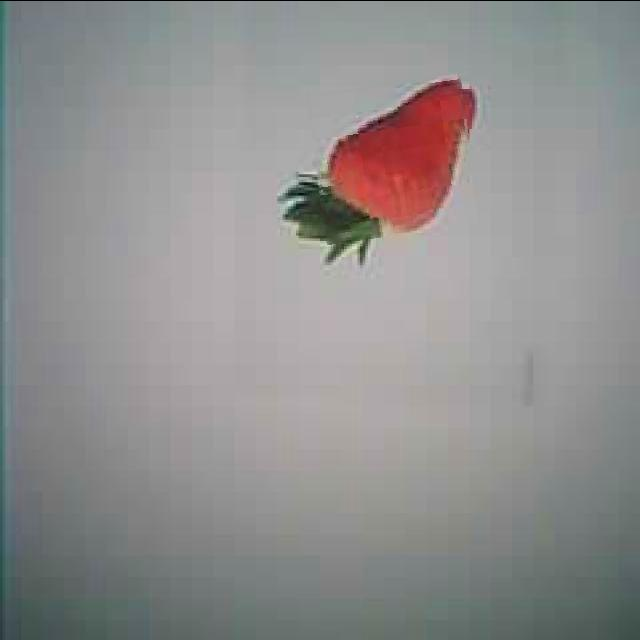strawberry: (312, 78, 476, 240)
